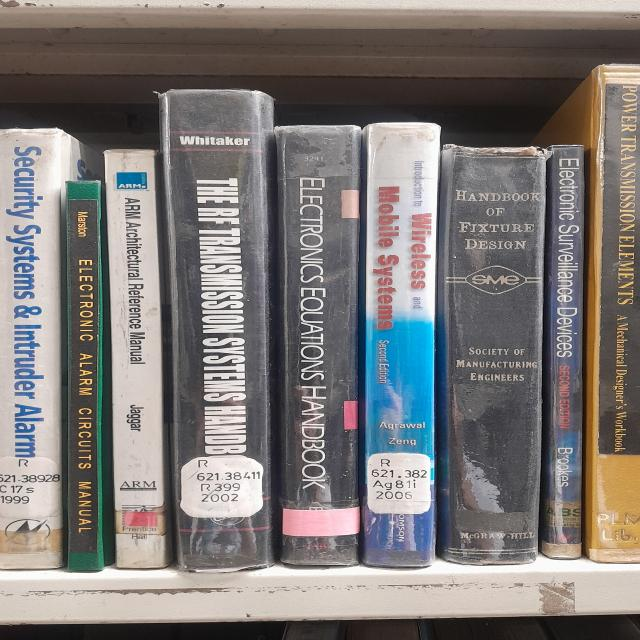book: (159, 90, 273, 570), (436, 145, 547, 565), (275, 125, 361, 565), (571, 65, 640, 563), (363, 123, 440, 567), (0, 129, 70, 569), (104, 150, 167, 568), (540, 145, 584, 559), (66, 179, 111, 571)
